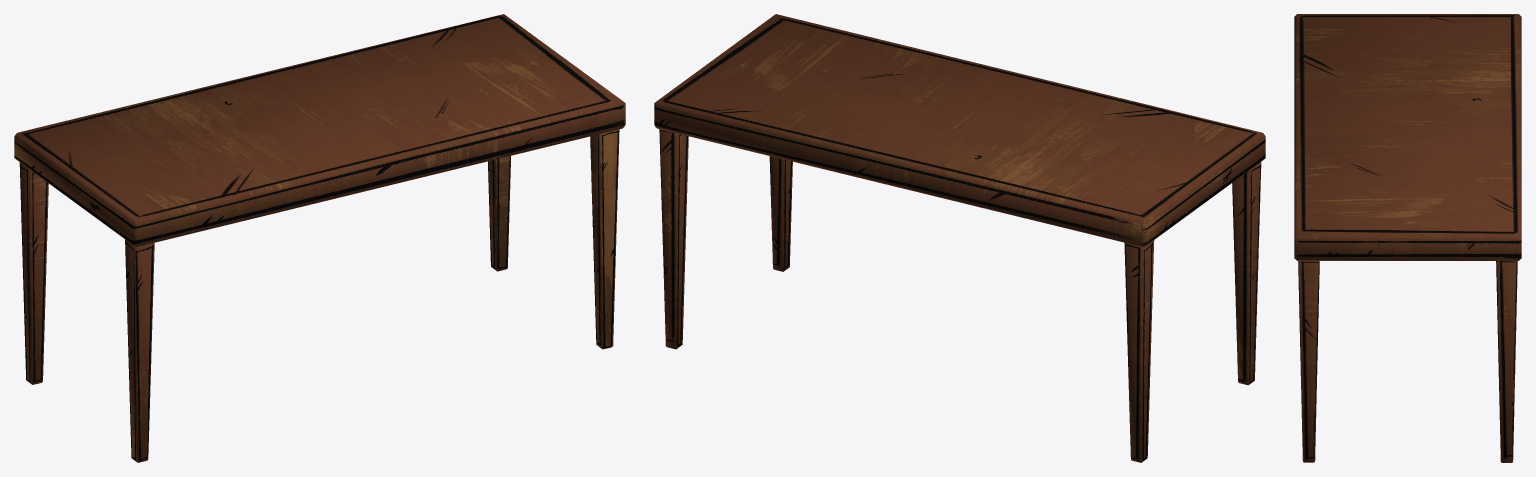
Rendered from Table_A.glb.
The picture shows the model from 3 angles, left to right: view 1: azimuth 30°, elevation 25°; view 2: azimuth 150°, elevation 25°; view 3: azimuth 270°, elevation 25°; orthographic projection. The views are drawn at different scales.
Visible parts, largest first — view 1: Table A; view 2: Table A; view 3: Table A.
Part boxes in pixels (box(x1,y1,x2,y2)): Table A: box(14, 14, 625, 462); Table A: box(654, 14, 1265, 462); Table A: box(1294, 14, 1521, 462).
Size of the model in its own units: 8.29 by 3.98 by 3.56.
1 material, 1 textured.
